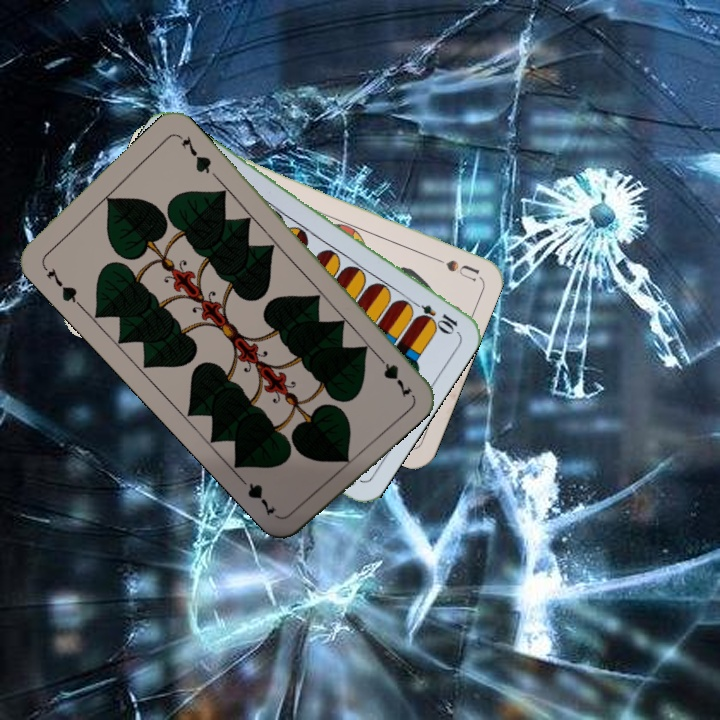E10: (405, 295, 461, 335)
G7: (370, 347, 415, 398), (38, 260, 83, 308)
SU: (423, 250, 481, 284)
